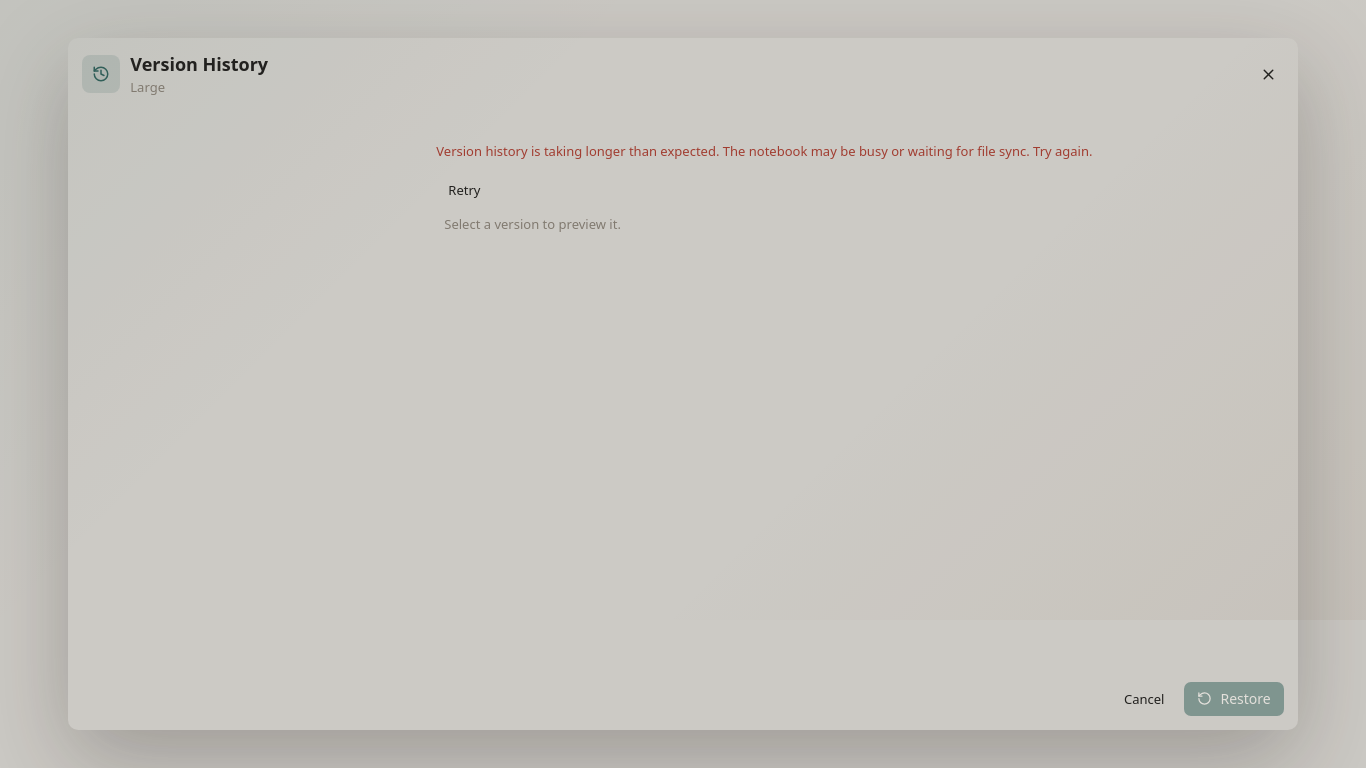
Scenario: stops a stalled list request, allows retry, and ignores its late response
Click the button "Retry": {"x": 464, "y": 190} [436, 173, 492, 207]
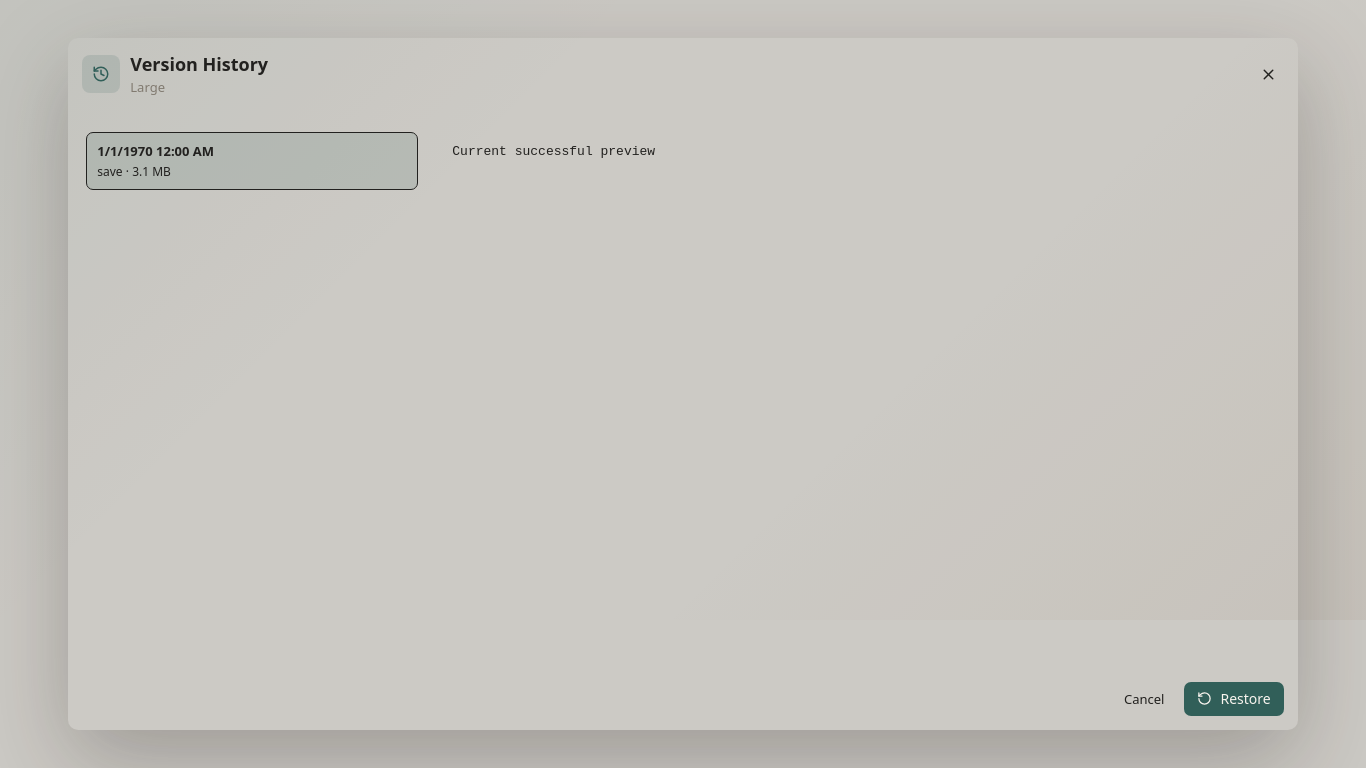
Expected: the text "Current successful preview" is shown, [452, 144, 655, 159]
